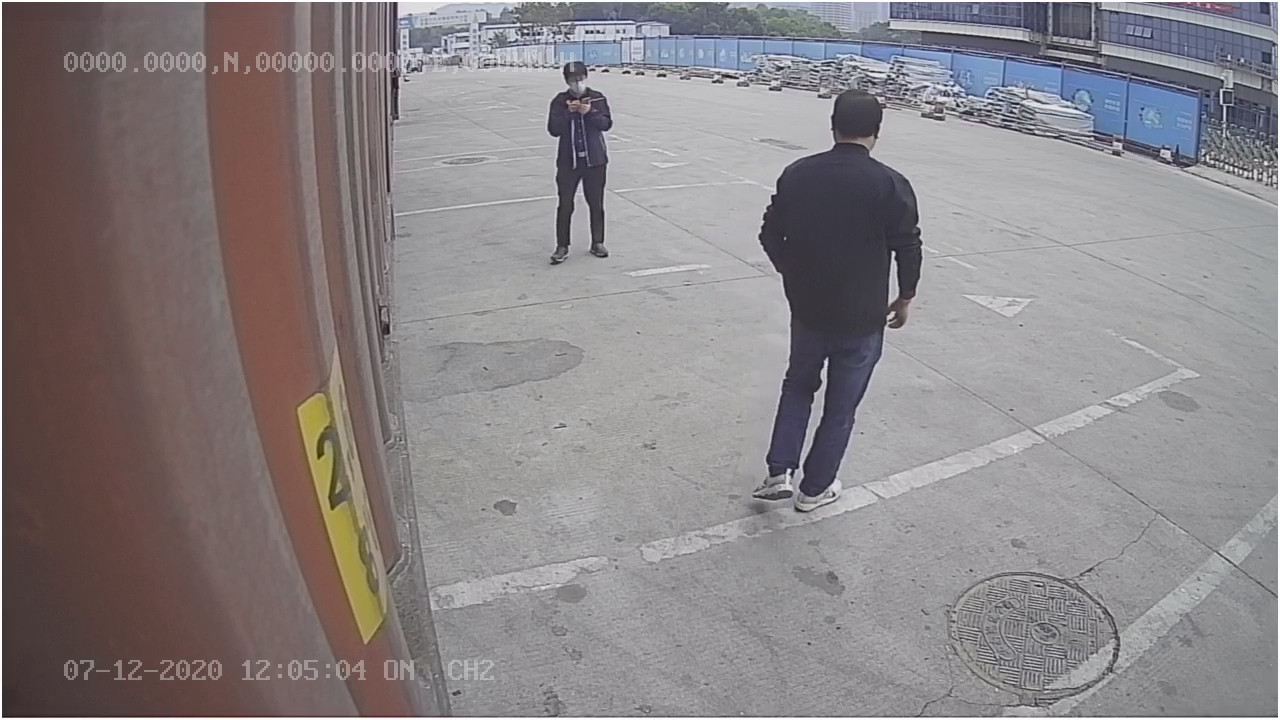person: (746, 80, 922, 514)
